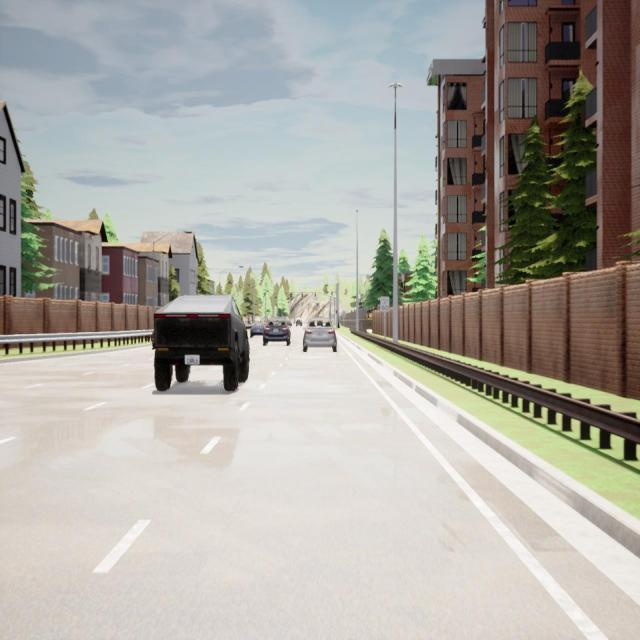Traffic_Signs: (380, 296, 390, 311)
Vehicle: (152, 294, 250, 391), (302, 318, 338, 353), (263, 317, 290, 346), (250, 321, 264, 336), (296, 318, 302, 327)
traffic_light: (290, 292, 292, 298), (301, 292, 303, 298), (315, 292, 316, 297), (336, 310, 337, 314)
